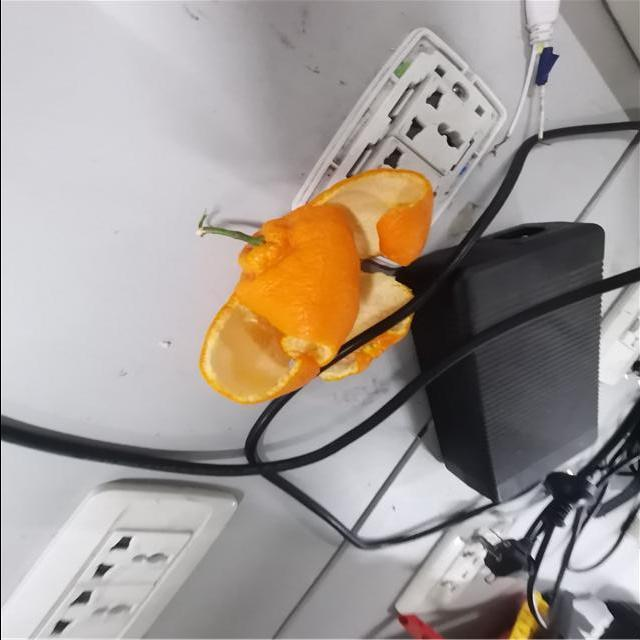orange peel: (198, 165, 434, 404)
